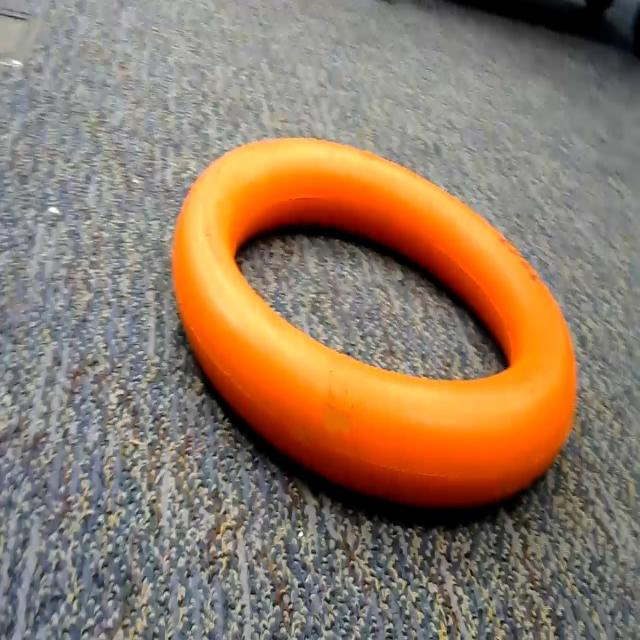note: (156, 109, 588, 541)
